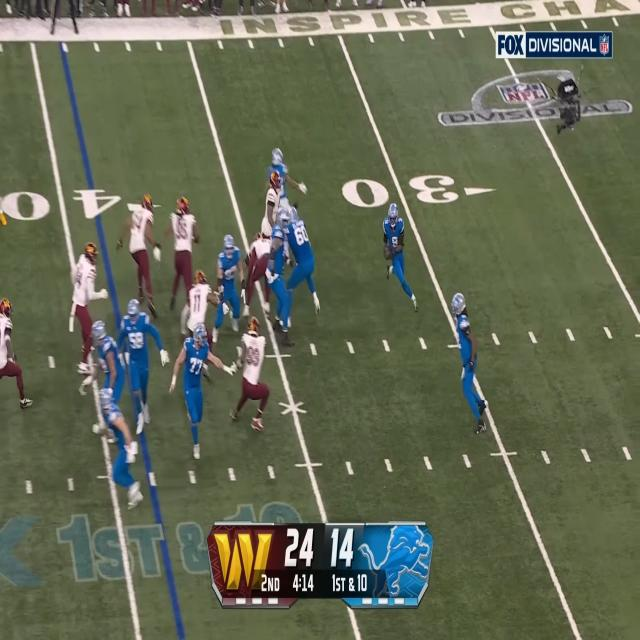Ball: (383, 244, 393, 260)
